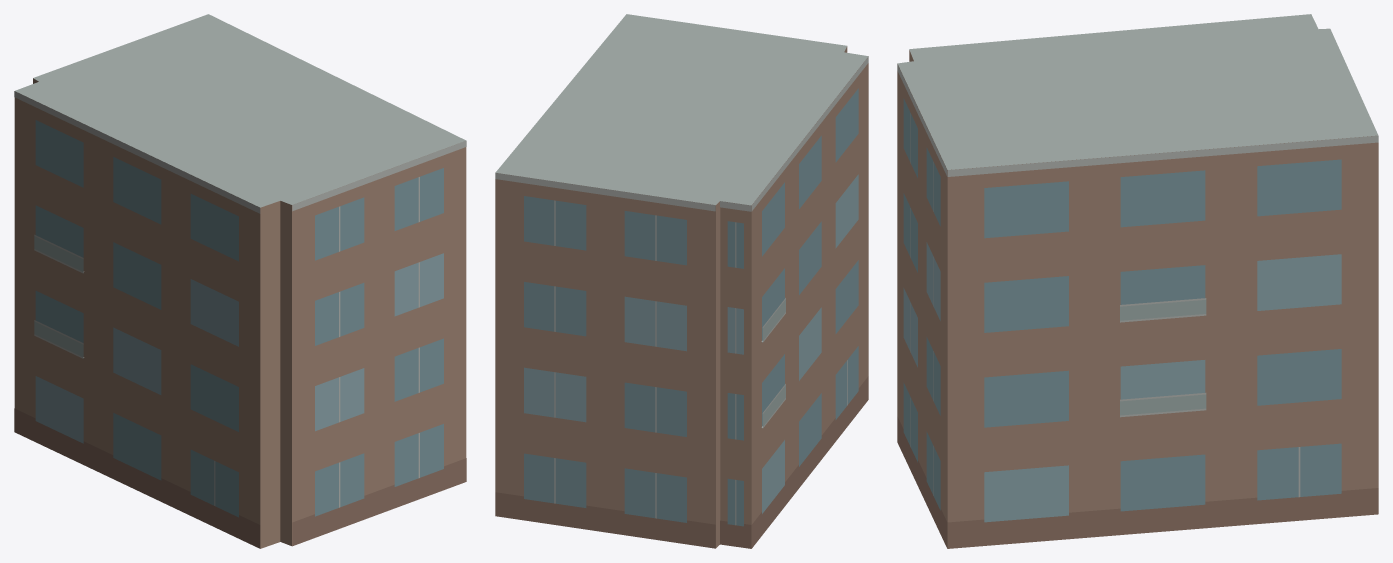
Rendered from survey-upis-32927327.glb.
The picture shows the model from 3 angles, left to right: view 1: azimuth 30°, elevation 25°; view 2: azimuth 150°, elevation 25°; view 3: azimuth 270°, elevation 25°; orthographic projection. The views are drawn at different scales.
Visible parts, largest first — view 1: survey-upis-32927327.tmp; view 2: survey-upis-32927327.tmp; view 3: survey-upis-32927327.tmp.
Part boxes in pixels (x1,y1,x2,y2): survey-upis-32927327.tmp: (14, 14, 466, 548); survey-upis-32927327.tmp: (495, 14, 868, 548); survey-upis-32927327.tmp: (897, 14, 1378, 548).
Bounding box in the file's own units: 11.67 × 13.2 × 15.2.
